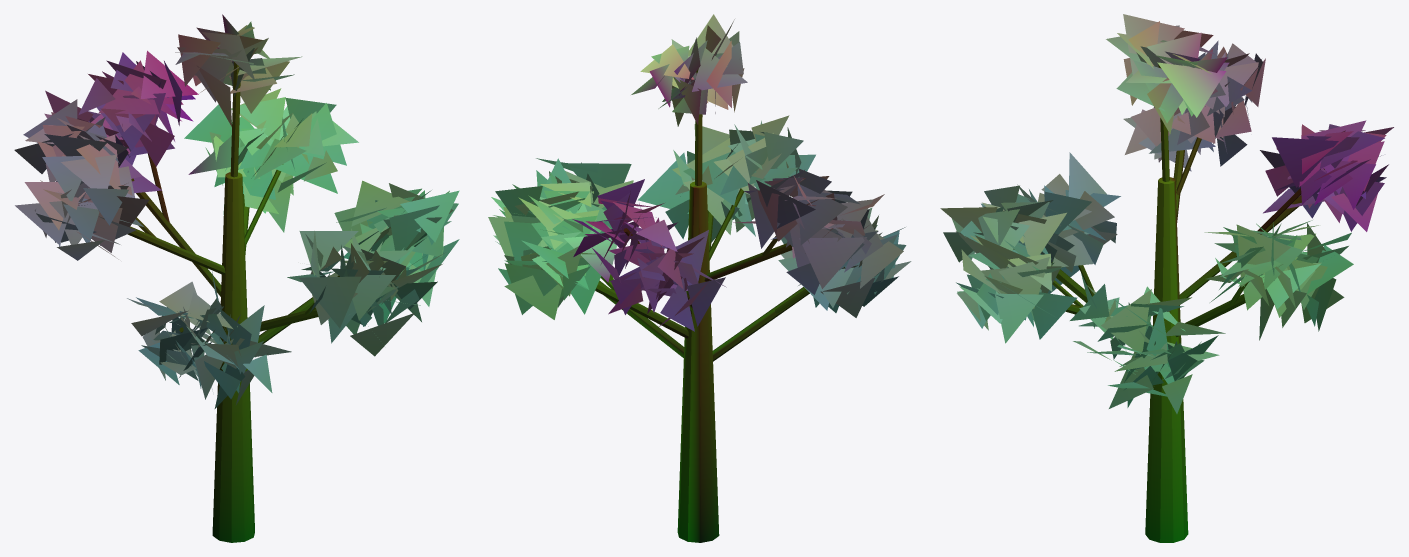
The model's file is ecological_broadleaf_young_01.glb.
The picture shows the model from 3 angles, left to right: view 1: azimuth 30°, elevation 25°; view 2: azimuth 150°, elevation 25°; view 3: azimuth 270°, elevation 25°; orthographic projection. The views are drawn at different scales.
Parts seen in each view (by area): view 1: ecological_broadleaf_young_01; view 2: ecological_broadleaf_young_01; view 3: ecological_broadleaf_young_01.
Part boxes in pixels (box(x1,y1,x2,y2)): ecological_broadleaf_young_01: box(14, 14, 459, 542); ecological_broadleaf_young_01: box(488, 14, 911, 542); ecological_broadleaf_young_01: box(940, 14, 1393, 542).
Bounding box in the file's own units: 8.38 × 10.05 × 8.09.
